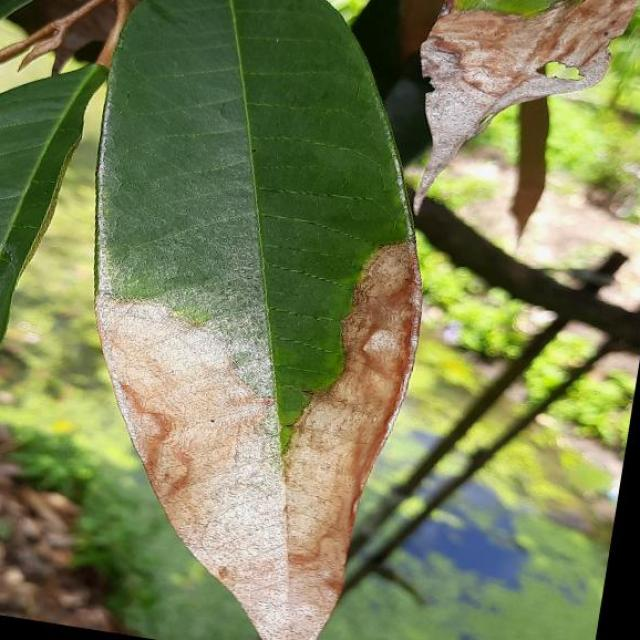Leaf Blight: (12, 0, 480, 640)
